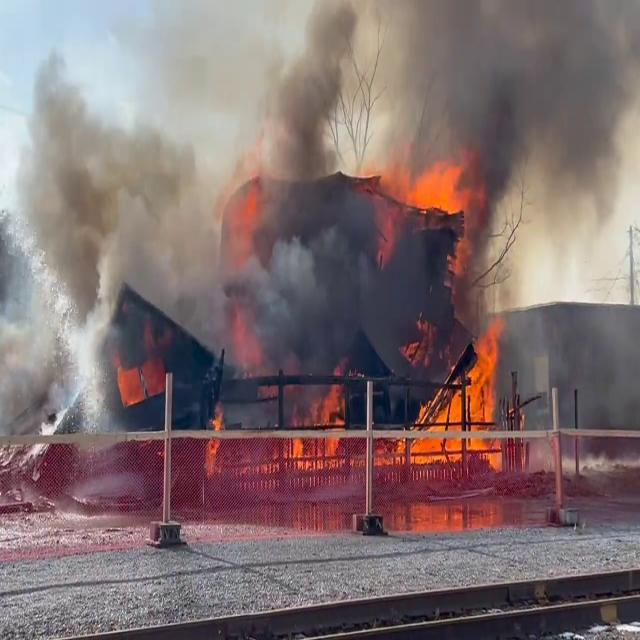Fire: (394, 284, 525, 474), (282, 359, 352, 476), (406, 146, 474, 222), (201, 396, 227, 478)
Smoke: (7, 0, 639, 364)
